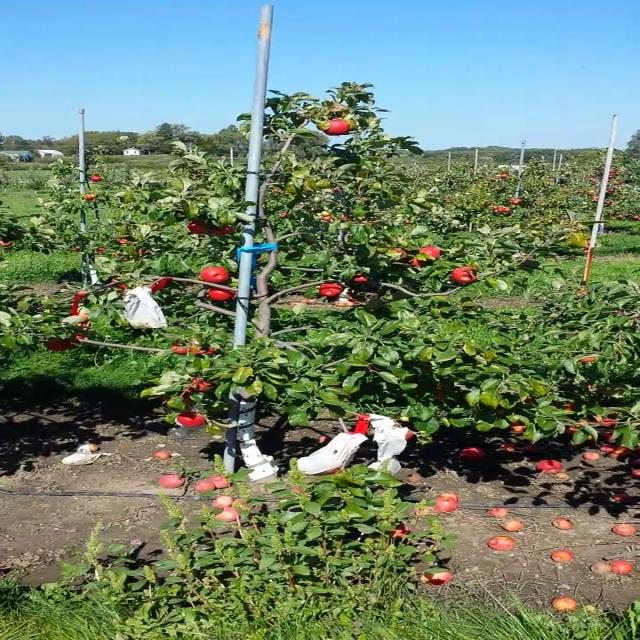apple: (159, 386, 197, 404), (322, 117, 352, 135), (174, 413, 206, 427), (452, 267, 478, 283), (207, 286, 235, 300), (201, 266, 228, 280), (43, 337, 70, 351), (188, 348, 220, 358), (150, 278, 171, 293), (189, 379, 215, 391), (319, 281, 341, 295), (547, 401, 576, 411), (566, 420, 588, 433), (185, 222, 208, 234), (170, 342, 193, 354), (207, 223, 230, 234), (349, 274, 370, 285), (421, 247, 440, 259), (310, 467, 342, 474), (391, 248, 408, 260), (409, 256, 428, 266), (110, 279, 129, 289), (602, 430, 615, 444), (433, 388, 445, 400), (509, 422, 523, 432), (599, 418, 616, 426), (74, 322, 90, 330), (404, 429, 414, 441), (73, 311, 87, 319), (577, 356, 595, 362), (69, 340, 79, 348), (74, 334, 84, 340), (524, 396, 534, 402)
